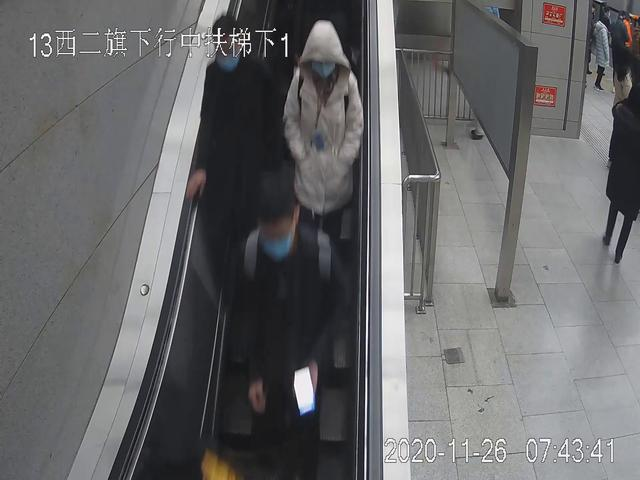person: (234, 179, 349, 477), (187, 16, 290, 309), (280, 18, 362, 365), (604, 87, 640, 262), (592, 13, 612, 86)
